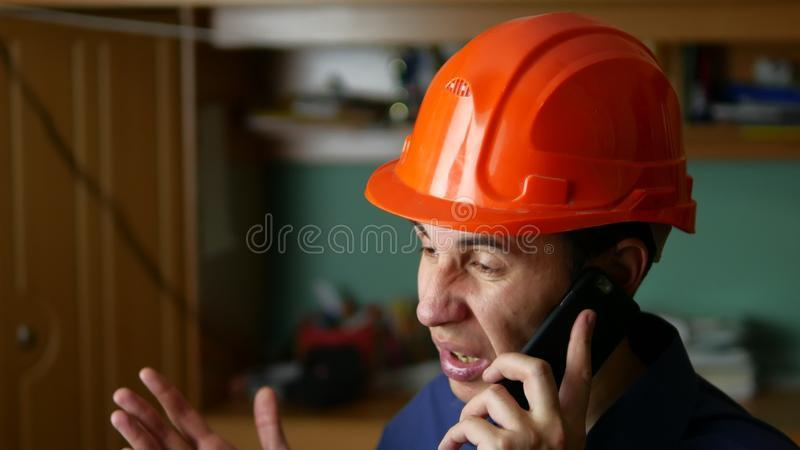helmet: (351, 10, 728, 248)
